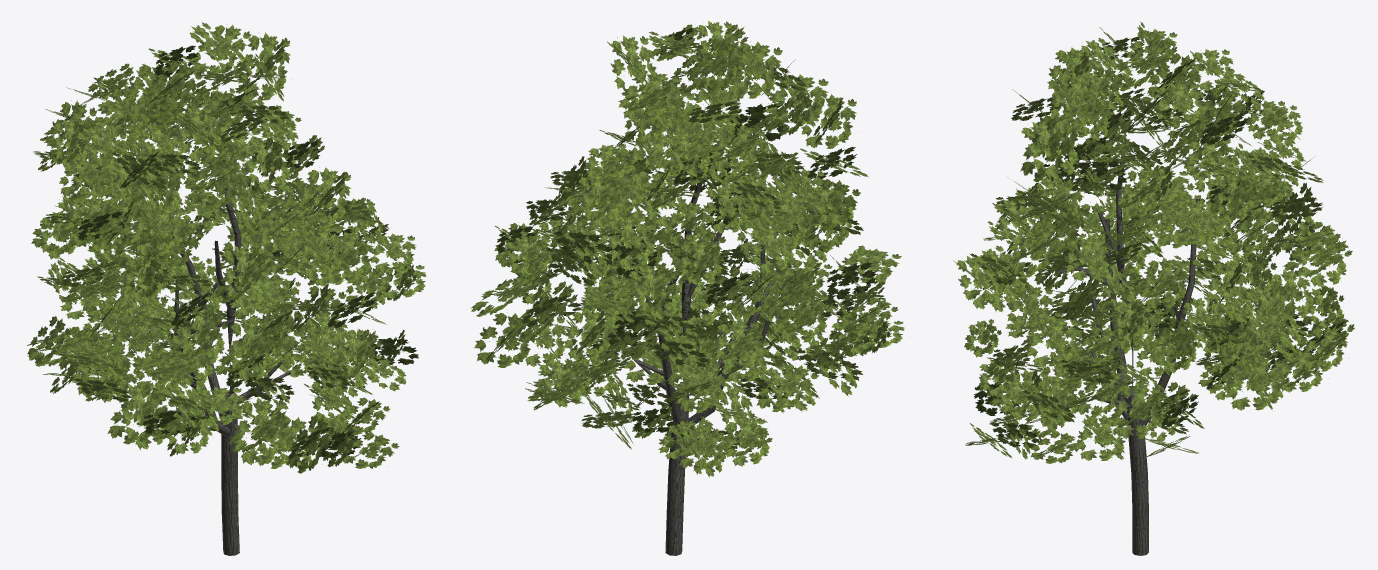
The model's file is sugar_maple_4.obj.
3 views of the same model, side by side, from view 1: azimuth 30°, elevation 25°; view 2: azimuth 150°, elevation 25°; view 3: azimuth 270°, elevation 25° (orthographic). The views are drawn at different scales.
Parts seen in each view (by area): view 1: Leaves, Trunk, Branches; view 2: Leaves, Trunk, Branches; view 3: Leaves, Trunk, Branches.
Boxes of the visible parts, bbox=[...] form: Leaves: bbox=[27, 22, 426, 473]; Trunk: bbox=[221, 160, 241, 555]; Branches: bbox=[155, 200, 290, 436]; Leaves: bbox=[470, 20, 904, 477]; Trunk: bbox=[665, 168, 718, 555]; Branches: bbox=[632, 213, 773, 426]; Leaves: bbox=[953, 22, 1354, 463]; Trunk: bbox=[1106, 156, 1148, 555]; Branches: bbox=[1057, 198, 1199, 427].
Bounding box in the file's own units: 29.12 × 39.51 × 29.9.
Materials: 2 (2 with a texture image).
